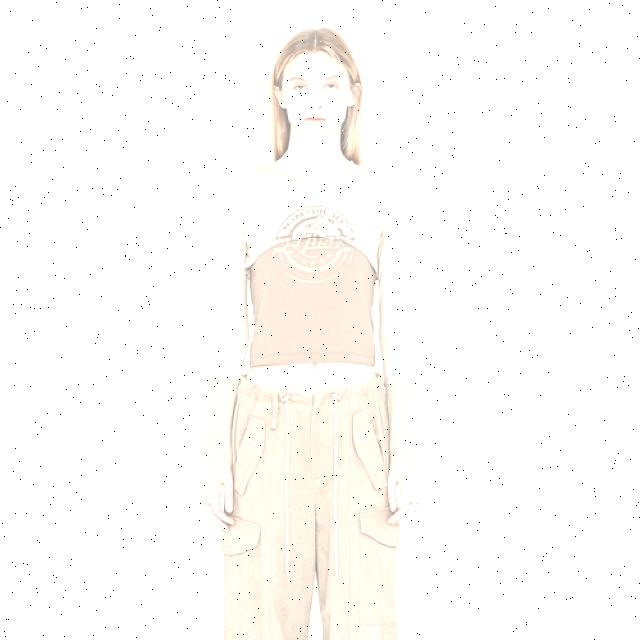dress: (187, 153, 433, 502)
